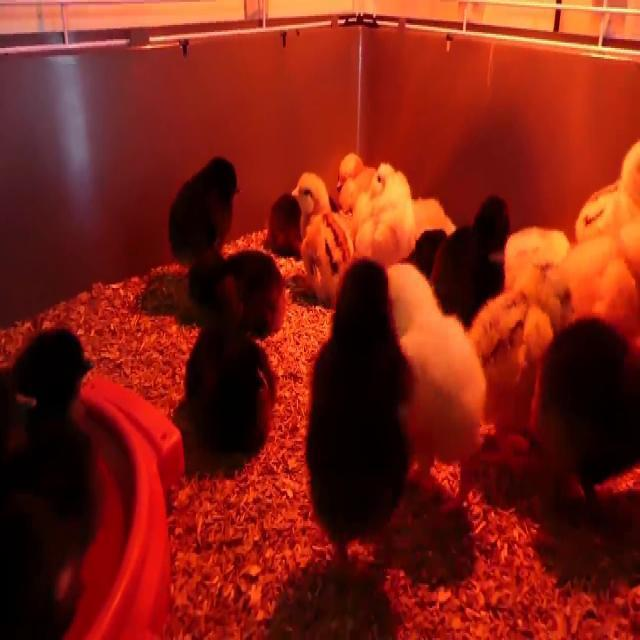poussin: (304, 261, 416, 570), (0, 325, 96, 640), (382, 266, 486, 530), (482, 225, 572, 460), (542, 319, 640, 502), (180, 295, 276, 469), (566, 152, 640, 354), (415, 199, 513, 309), (158, 154, 242, 270), (290, 172, 355, 300), (185, 250, 289, 329), (368, 156, 422, 262), (332, 149, 376, 209), (264, 190, 308, 247)
